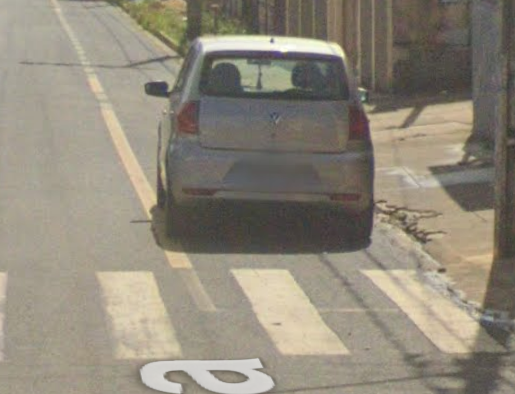car: (146, 27, 378, 241)
